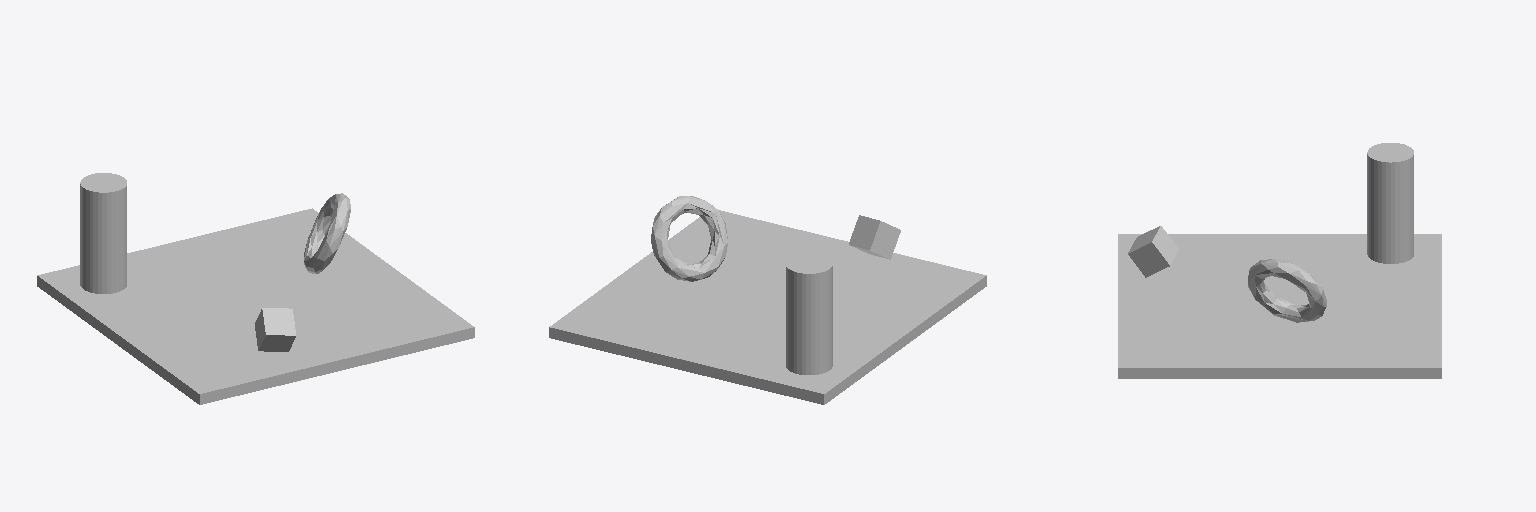
Rendered from platform_test.obj.
The picture shows the model from 3 angles: view 1: azimuth 30°, elevation 25°; view 2: azimuth 150°, elevation 25°; view 3: azimuth 270°, elevation 25°; orthographic projection.
Parts seen in each view (by area): view 1: Cube; view 2: Cube; view 3: Cube.
Part boxes in pixels (x1,y1,x2,y2): Cube: (37, 173, 474, 404); Cube: (549, 196, 986, 404); Cube: (1118, 143, 1441, 378).
Size of the model in its own units: 13.47 by 5.26 by 13.77.